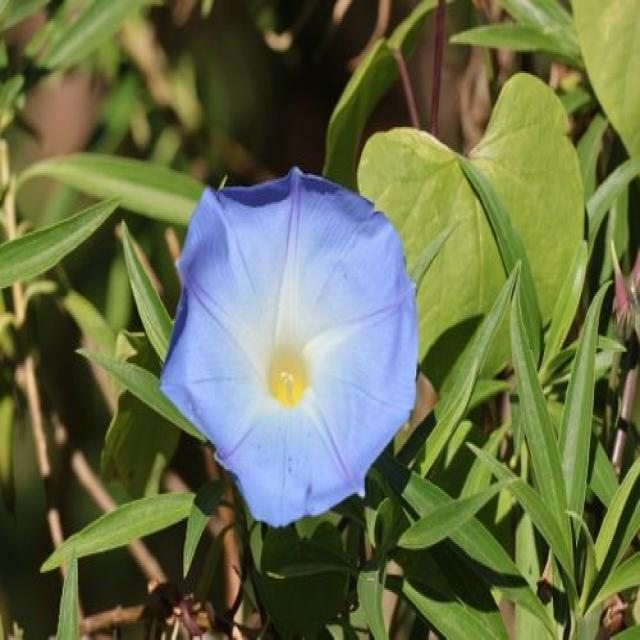ipomoea: (156, 163, 422, 532)
